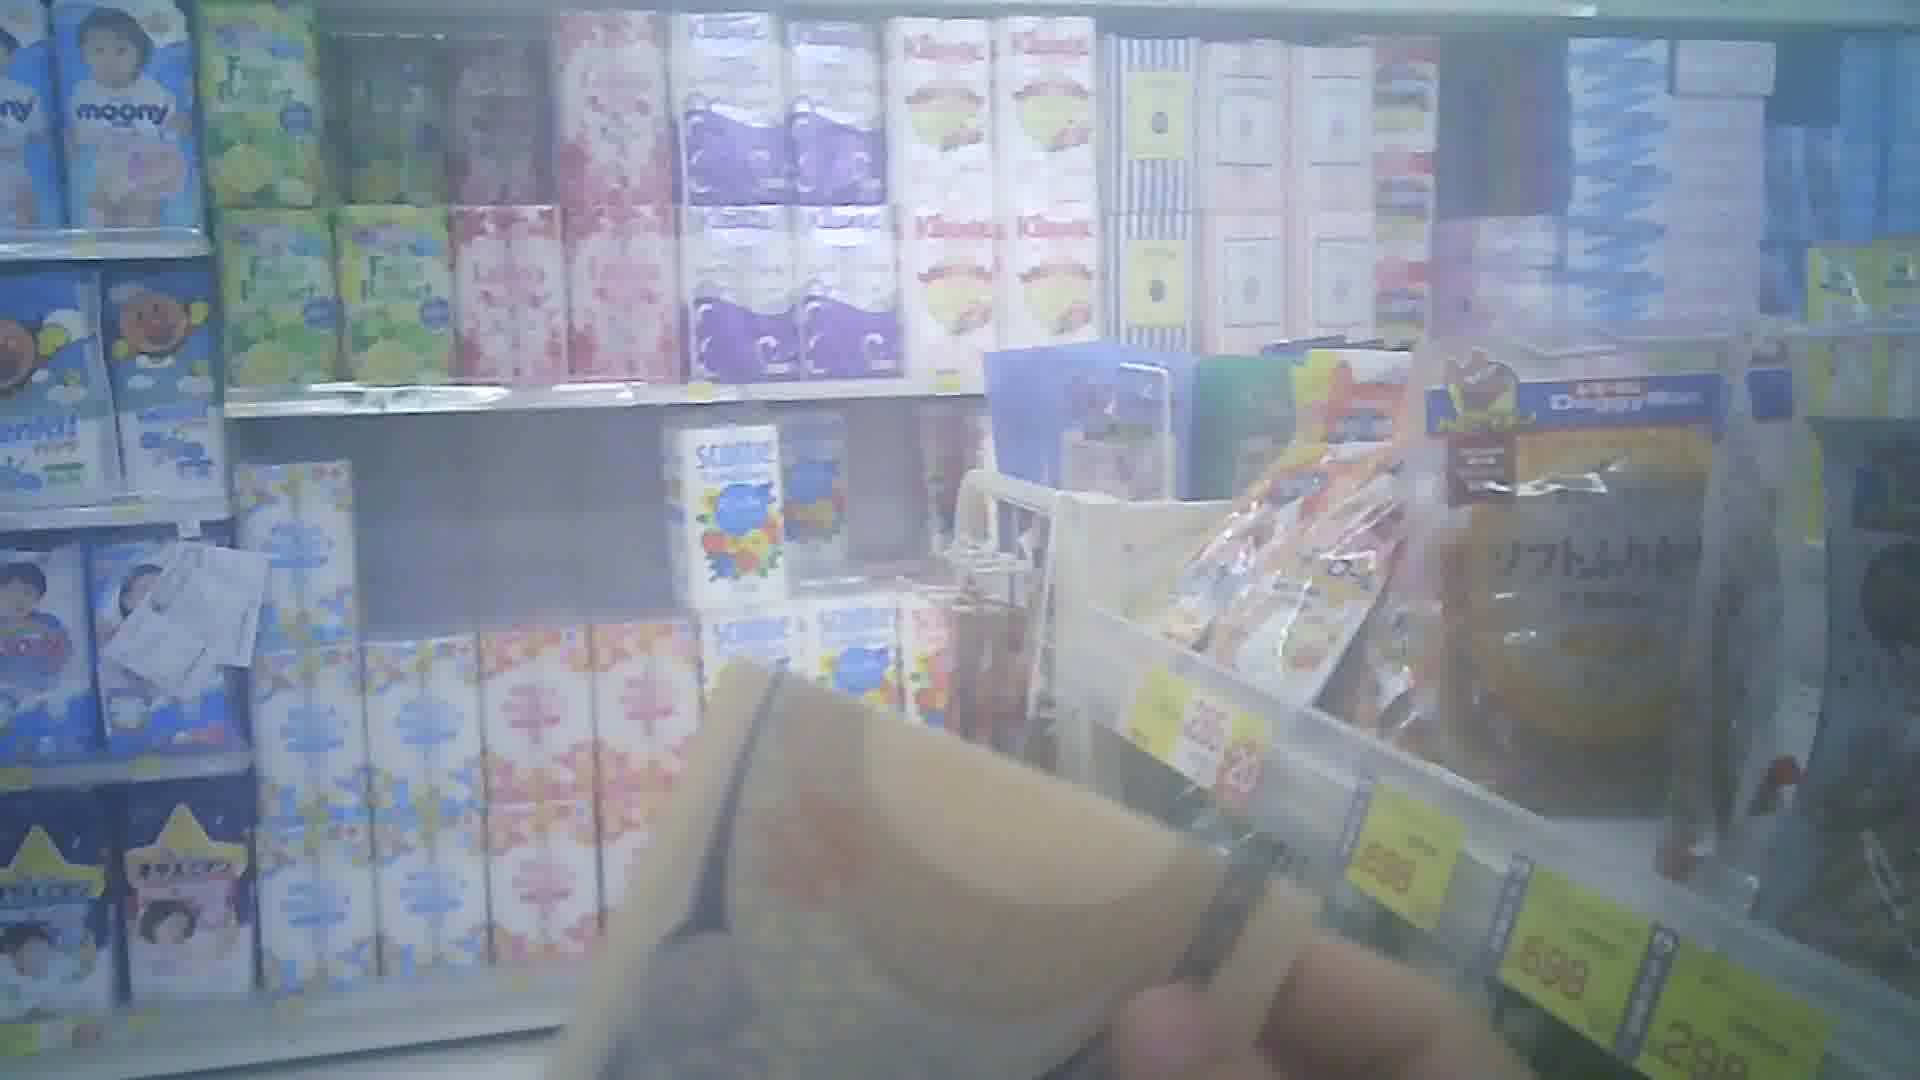1,000 Yen: (576, 655, 1280, 1079)
